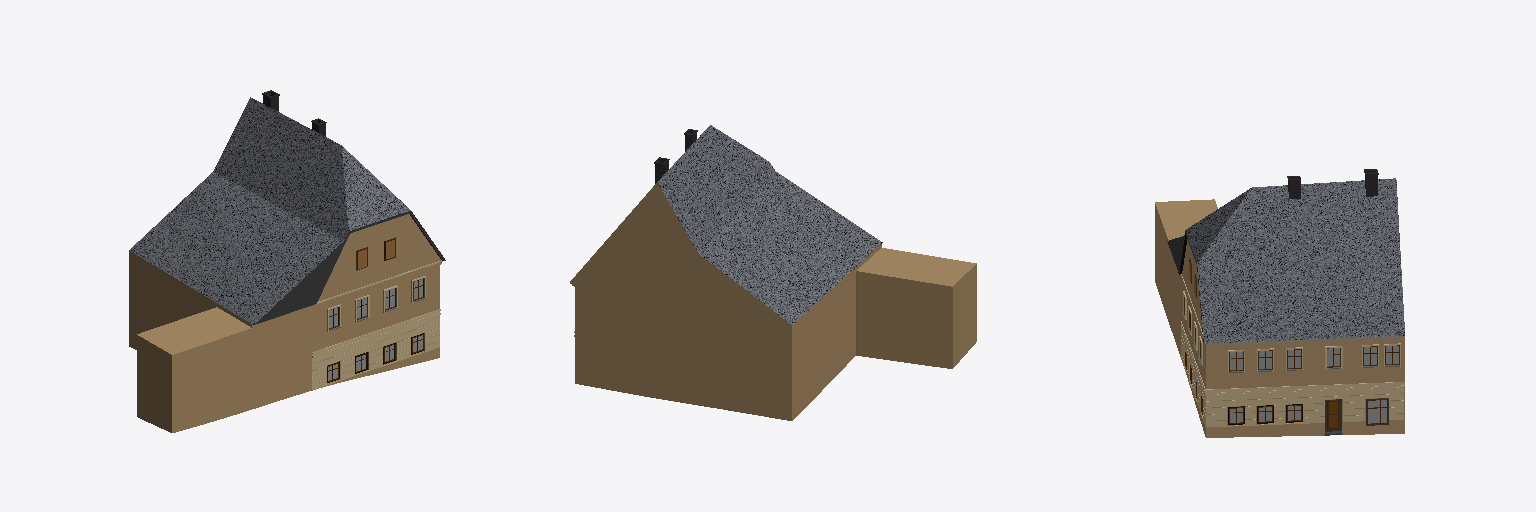
3 views of the same model, side by side, from view 1: azimuth 30°, elevation 25°; view 2: azimuth 150°, elevation 25°; view 3: azimuth 270°, elevation 25° (orthographic).
Visible parts, largest first — view 1: Model_Model.011; view 2: Model_Model.011; view 3: Model_Model.011.
Boxes of the visible parts, box(x1,y1,x2,y2) form: Model_Model.011: box(129, 90, 445, 432); Model_Model.011: box(570, 125, 976, 420); Model_Model.011: box(1155, 169, 1404, 437).
Size of the model in its own units: 2.41 by 1.73 by 1.72.
20 materials, 1 textured.